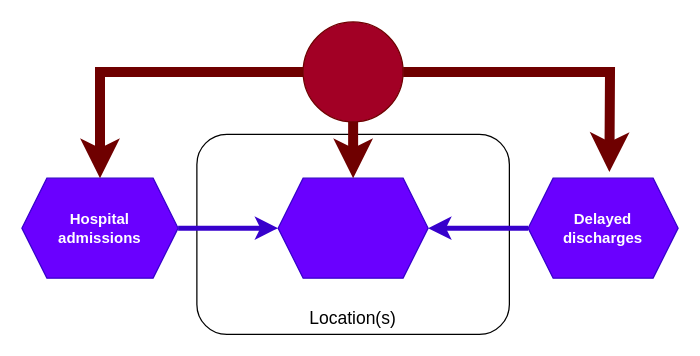
Image size: 700x356. Some labels were removed from this diagram. The box of each missing label's shape, as (x1, y1, x2, y2) in pixels:
% Occupancy: (277, 177, 428, 278)
COVID: (302, 21, 403, 122)
